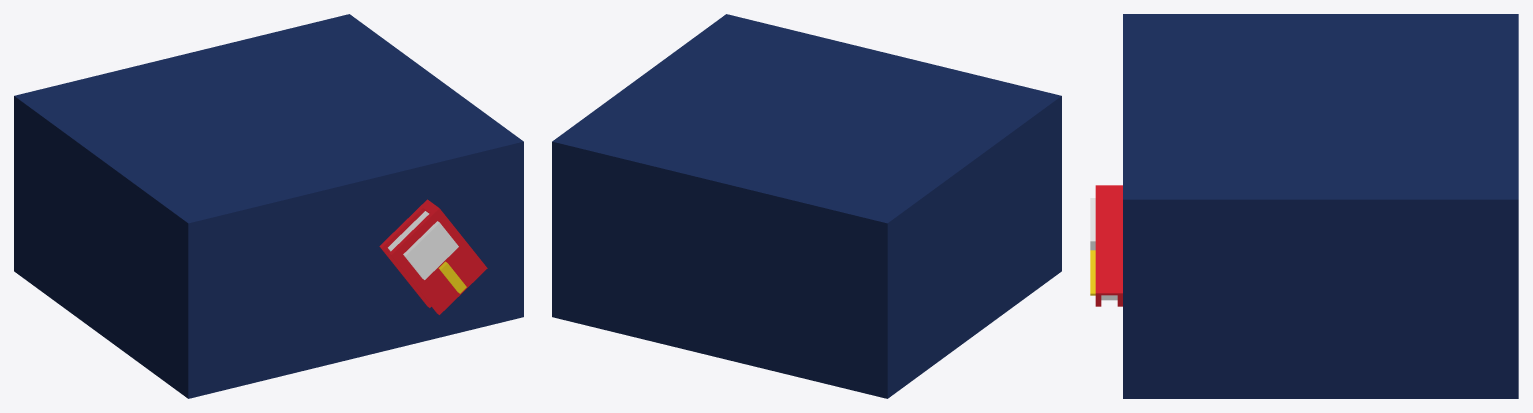
The model's file is tinker.obj.
The picture shows the model from 3 angles, left to right: view 1: azimuth 30°, elevation 25°; view 2: azimuth 150°, elevation 25°; view 3: azimuth 270°, elevation 25°; orthographic projection. The views are drawn at different scales.
Parts seen in each view (by area): view 1: group_0_1650274, group_0_15277357, group_0_16448250; view 2: group_0_1650274; view 3: group_0_1650274, group_0_15277357, group_0_16448250.
Part boxes in pixels (bbox=[...]): group_0_1650274: bbox=[14, 14, 523, 398]; group_0_15277357: bbox=[379, 199, 487, 314]; group_0_16448250: bbox=[388, 211, 458, 279]; group_0_1650274: bbox=[552, 14, 1061, 398]; group_0_1650274: bbox=[1123, 14, 1518, 398]; group_0_15277357: bbox=[1095, 185, 1122, 306]; group_0_16448250: bbox=[1090, 198, 1117, 300].
Bounding box in the file's own units: 40 × 22 × 39.
